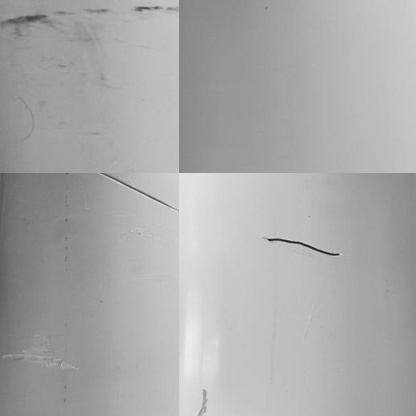fengxi: (263, 230, 351, 268)
sunshang: (99, 170, 181, 213), (5, 328, 76, 374)
